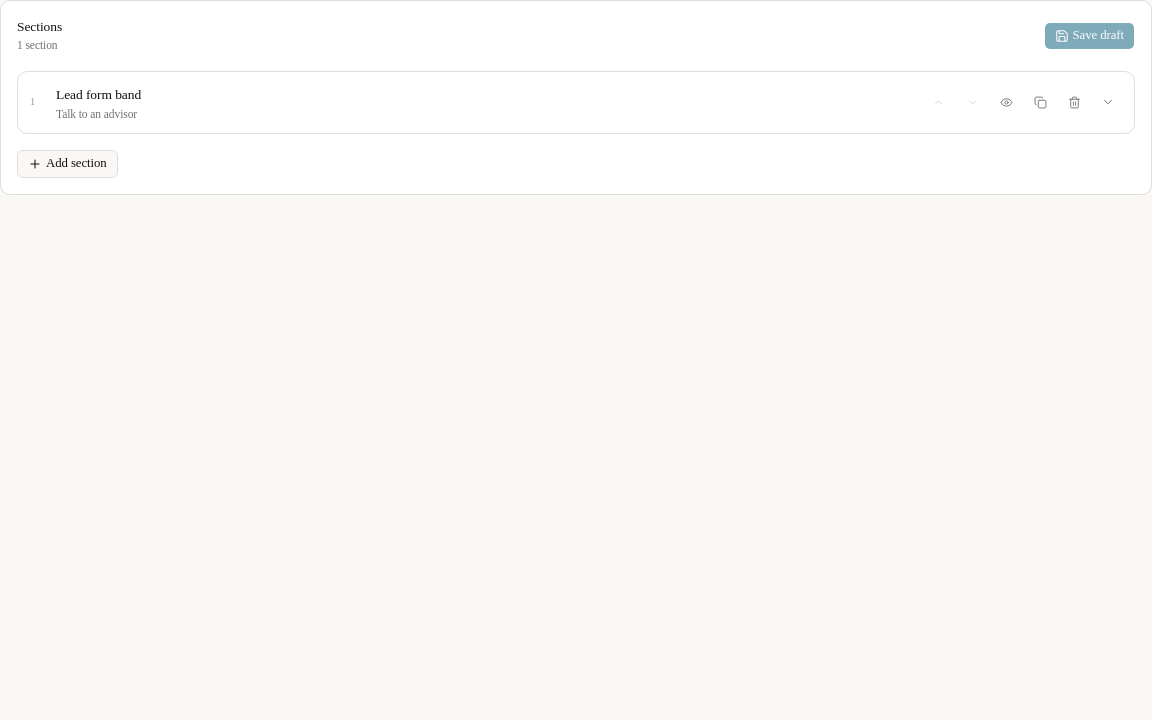
Test: BlockEditor — form picker preview › sketches the chosen form's questions under the picker
What coordinates should you click on to do the following:
click the button named "Expand"
I would click on:
 (1108, 102)
Its box is [1094,88,1122,116].
(page scrolled)
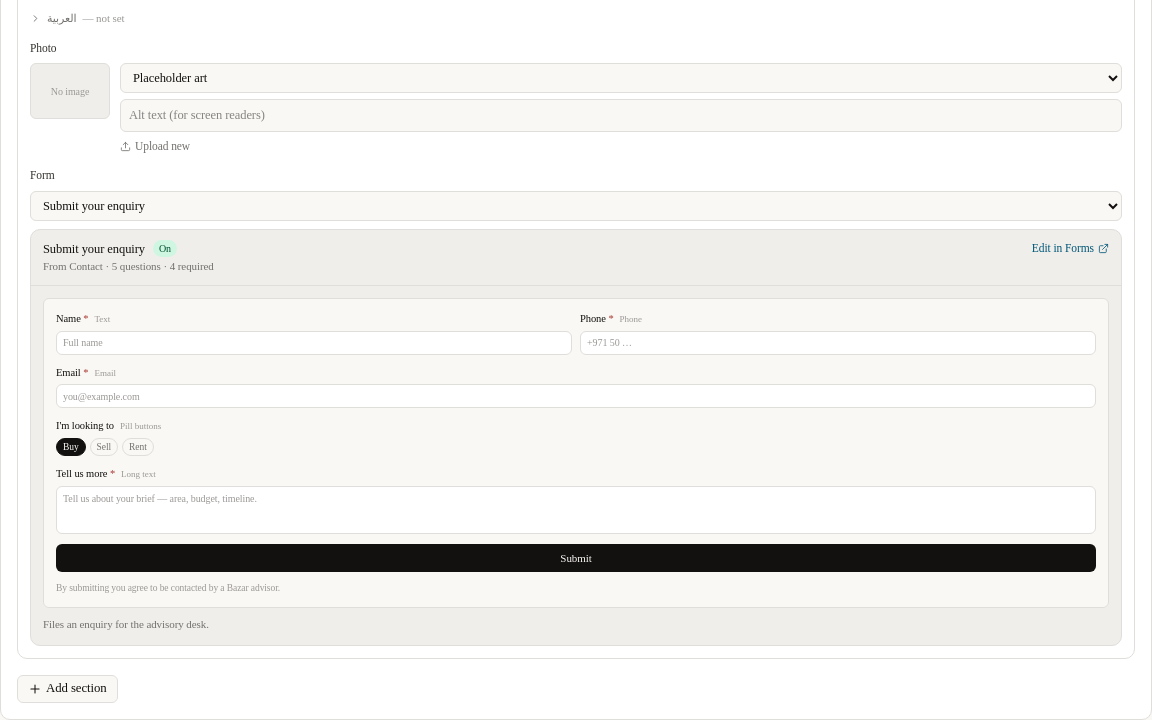
Check: the element with test id "form-mini-preview" shows "Name", box [56,313,81,324]
Check: the element with test id "form-mini-preview" shows "Phone", box [580,313,606,324]
Check: the element with test id "form-mini-preview" shows "Email", box [56,366,81,378]
